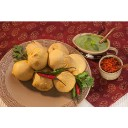bonda: (50, 47, 69, 70), (56, 72, 76, 93), (28, 48, 47, 70), (12, 60, 32, 80), (34, 72, 52, 92), (68, 53, 85, 73)
